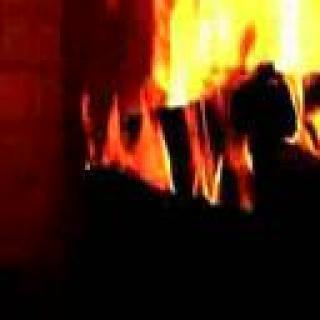fire: (126, 0, 320, 126)
